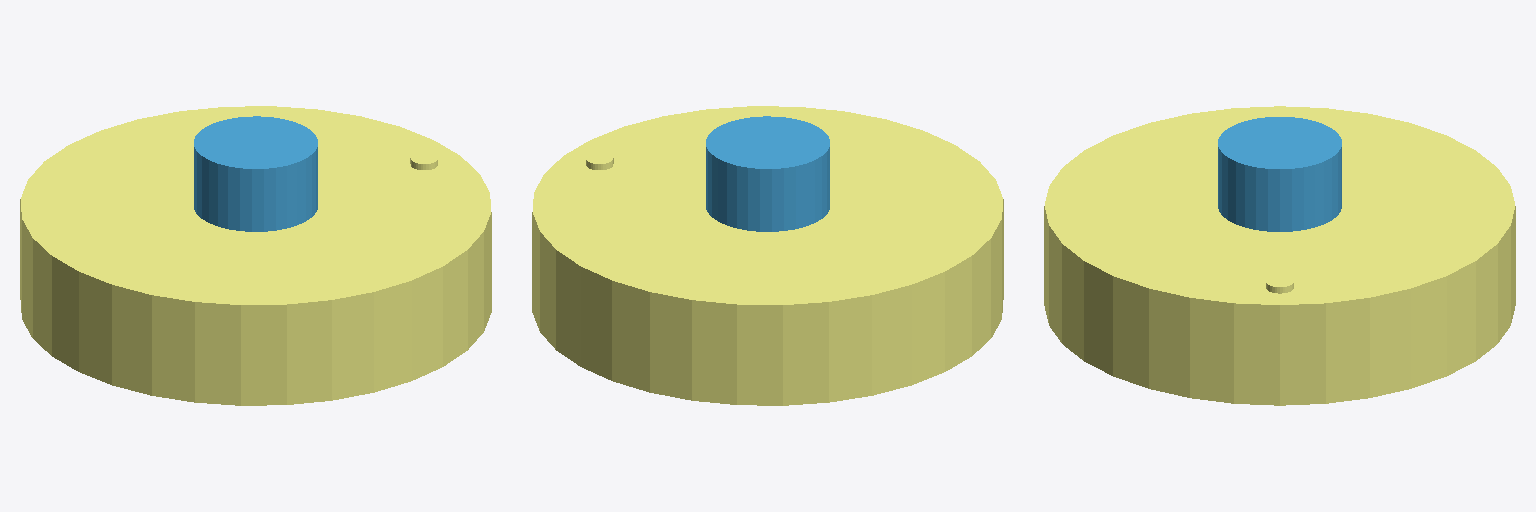
The robot description file, URDF, robot "iRobot":
<?xml version="1.0" ?>
<!-- =================================================================================== -->
<!-- |    This document was autogenerated by xacro from iRobot.urdf.xacro              | -->
<!-- |    EDITING THIS FILE BY HAND IS NOT RECOMMENDED                                 | -->
<!-- =================================================================================== -->
<robot name="iRobot" xmlns:xacro="http://www.ros.org/wiki/xacro">
  <!-- MODELS -->
  <material name="iRobot/Green">
    <color rgba="0.0 0.6 0.0 1.0"/>
  </material>
  <material name="iRobot/Yellow">
    <color rgba="1.0 1.0 0.0 1.0"/>
  </material>
  <material name="iRobot/Blue">
    <color rgba="0.0 0.5 1.0 1.0"/>
  </material>
  <material name="iRobot/LightYellow">
    <color rgba="1.0 1.0 0.6 1.0"/>
  </material>
  <material name="iRobot/Grey">
    <color rgba="0.75 0.75 0.75 1.0"/>
  </material>
  <material name="iRobot/Black">
    <color rgba="0.0 0.0 0.0 1.0"/>
  </material>
  <material name="iRobot/Red">
    <color rgba="0.8 0.0 0.0 1.0"/>
  </material>
  <link name="base_link">
    <inertial>
      <origin rpy="0 0 0" xyz="0 0 0"/>
      <mass value="0"/>
      <inertia ixx="0.0" ixy="0.0" ixz="0.0" iyy="0.0" iyz="0.0" izz="0.0"/>
    </inertial>
  </link>
  <joint name="base_joint" type="fixed">
    <origin rpy="0 0 0" xyz="0 0 0"/>
    <parent link="base_link"/>
    <child link="chassis"/>
  </joint>
  <link name="chassis">
    <inertial>
      <origin rpy="0 0 0" xyz="0 0 0"/>
      <mass value="10"/>
      <inertia ixx="0.425" ixy="0.0" ixz="0.0" iyy="0.425" iyz="0.0" izz="0.85"/>
    </inertial>
    <visual>
      <origin rpy="0 0 0" xyz="0 0 0"/>
      <geometry>
        <cylinder length="0.08" radius="0.17"/>
      </geometry>
      <material name="iRobot/LightYellow"/>
    </visual>
    <collision>
      <origin rpy="0 0 0" xyz="0 0 0"/>
      <geometry>
        <cylinder length="0.08" radius="0.17"/>
      </geometry>
    </collision>
  </link>
  <joint name="left_axis_base_joint" type="fixed">
    <origin rpy="0 0 0" xyz="0 0.14 -0.02"/>
    <parent link="chassis"/>
    <child link="left_axis"/>
  </joint>
  <link name="left_axis">
    <inertial>
      <origin rpy="-1.57079632679 0 0" xyz="0 0 0"/>
      <mass value="0.001"/>
      <inertia ixx="6.25e-07" ixy="0.0" ixz="0.0" iyy="6.25e-07" iyz="0.0" izz="2.08333333333e-07"/>
    </inertial>
    <visual>
      <origin rpy="-1.57079632679 0 0" xyz="0 0 0"/>
      <geometry>
        <cylinder length="0.02" radius="0.0025"/>
      </geometry>
      <material name="iRobot/Red"/>
    </visual>
    <collision>
      <origin rpy="-1.57079632679 0 0" xyz="0 0 0"/>
      <geometry>
        <cylinder length="0.02" radius="0.0025"/>
      </geometry>
    </collision>
  </link>
  <gazebo reference="left_axis_axis">
    <gravity>true</gravity>
    <material>Gazebo/Red</material>
    <mu1>0.8</mu1>
    <mu2>0.8</mu2>
  </gazebo>
  <joint name="left_wheel_rot_joint" type="continuous">
    <origin rpy="0 0 0" xyz="0 0 0"/>
    <axis xyz="0 1 0"/>
    <limit effort="100" velocity="100"/>
    <joint_properties damping="0.0" friction="0.0"/>
    <parent link="left_axis"/>
    <child link="left_wheel_link"/>
  </joint>
  <link name="left_wheel_link">
    <inertial>
      <origin rpy="-1.57079632679 0 0" xyz="0 0.01 0"/>
      <mass value="0.5"/>
      <inertia ixx="0.00375" ixy="0.0" ixz="0.0" iyy="0.00375" iyz="0.0" izz="0.00125"/>
    </inertial>
    <visual>
      <origin rpy="-1.57079632679 0 0" xyz="0 0 0"/>
      <geometry>
        <cylinder length="0.02" radius="0.03"/>
      </geometry>
      <material name="iRobot/Grey"/>
    </visual>
    <collision>
      <origin rpy="-1.57079632679 0 0" xyz="0 0 0"/>
      <geometry>
        <cylinder length="0.02" radius="0.03"/>
      </geometry>
    </collision>
  </link>
  <gazebo reference="left_wheel_link">
    <gravity>true</gravity>
    <material>Gazebo/Grey</material>
    <mu1>50</mu1>
    <mu2>10</mu2>
    <kp>10000000</kp>
    <kd>1</kd>
    <fdir1>1 0 0</fdir1>
    <minDepth>0.0001</minDepth>
    <maxContacts>1</maxContacts>
  </gazebo>
  <joint name="right_axis_base_joint" type="fixed">
    <origin rpy="0 0 0" xyz="0 -0.14 -0.02"/>
    <parent link="chassis"/>
    <child link="right_axis"/>
  </joint>
  <link name="right_axis">
    <inertial>
      <origin rpy="-1.57079632679 0 0" xyz="0 0 0"/>
      <mass value="0.001"/>
      <inertia ixx="6.25e-07" ixy="0.0" ixz="0.0" iyy="6.25e-07" iyz="0.0" izz="2.08333333333e-07"/>
    </inertial>
    <visual>
      <origin rpy="-1.57079632679 0 0" xyz="0 0 0"/>
      <geometry>
        <cylinder length="0.02" radius="0.0025"/>
      </geometry>
      <material name="iRobot/Red"/>
    </visual>
    <collision>
      <origin rpy="-1.57079632679 0 0" xyz="0 0 0"/>
      <geometry>
        <cylinder length="0.02" radius="0.0025"/>
      </geometry>
    </collision>
  </link>
  <gazebo reference="right_axis_axis">
    <gravity>true</gravity>
    <material>Gazebo/Red</material>
    <mu1>0.8</mu1>
    <mu2>0.8</mu2>
  </gazebo>
  <joint name="right_wheel_rot_joint" type="continuous">
    <origin rpy="0 0 0" xyz="0 0 0"/>
    <axis xyz="0 1 0"/>
    <limit effort="100" velocity="100"/>
    <joint_properties damping="0.0" friction="0.0"/>
    <parent link="right_axis"/>
    <child link="right_wheel_link"/>
  </joint>
  <link name="right_wheel_link">
    <inertial>
      <origin rpy="-1.57079632679 0 0" xyz="0 0.01 0"/>
      <mass value="0.5"/>
      <inertia ixx="0.00375" ixy="0.0" ixz="0.0" iyy="0.00375" iyz="0.0" izz="0.00125"/>
    </inertial>
    <visual>
      <origin rpy="-1.57079632679 0 0" xyz="0 0 0"/>
      <geometry>
        <cylinder length="0.02" radius="0.03"/>
      </geometry>
      <material name="iRobot/Grey"/>
    </visual>
    <collision>
      <origin rpy="-1.57079632679 0 0" xyz="0 0 0"/>
      <geometry>
        <cylinder length="0.02" radius="0.03"/>
      </geometry>
    </collision>
  </link>
  <gazebo reference="right_wheel_link">
    <gravity>true</gravity>
    <material>Gazebo/Grey</material>
    <mu1>50</mu1>
    <mu2>10</mu2>
    <kp>10000000</kp>
    <kd>1</kd>
    <fdir1>1 0 0</fdir1>
    <minDepth>0.0001</minDepth>
    <maxContacts>1</maxContacts>
  </gazebo>
  <joint name="sphere_joint1" type="revolute">
    <origin rpy="0 0 0" xyz="0.14 0 -0.04"/>
    <axis xyz="0 0 1"/>
    <limit effort="100" lower="0" upper="0" velocity="100"/>
    <parent link="chassis"/>
    <child link="sphere1"/>
  </joint>
  <link name="sphere1">
    <inertial>
      <origin rpy="0 0 0" xyz="0 0 0"/>
      <mass value="0.3"/>
      <inertia ixx="0.0012" ixy="0.0" ixz="0.0" iyy="0.0012" iyz="0.0" izz="0.0012"/>
    </inertial>
    <visual>
      <origin rpy="0 0 0" xyz="0 0 0"/>
      <geometry>
        <sphere radius="0.01"/>
      </geometry>
      <material name="iRobot/Grey"/>
    </visual>
    <collision>
      <origin rpy="0 0 0" xyz="0 0 0"/>
      <geometry>
        <sphere radius="0.01"/>
      </geometry>
    </collision>
  </link>
  <joint name="sphere_joint2" type="revolute">
    <origin rpy="0 0 0" xyz="-0.14 0 -0.04"/>
    <axis xyz="0 0 1"/>
    <limit effort="100" lower="0" upper="0" velocity="100"/>
    <parent link="chassis"/>
    <child link="sphere2"/>
  </joint>
  <link name="sphere2">
    <inertial>
      <origin rpy="0 0 0" xyz="0 0 0"/>
      <mass value="0.3"/>
      <inertia ixx="0.0012" ixy="0.0" ixz="0.0" iyy="0.0012" iyz="0.0" izz="0.0012"/>
    </inertial>
    <visual>
      <origin rpy="0 0 0" xyz="0 0 0"/>
      <geometry>
        <sphere radius="0.01"/>
      </geometry>
      <material name="iRobot/Grey"/>
    </visual>
    <collision>
      <origin rpy="0 0 0" xyz="0 0 0"/>
      <geometry>
        <sphere radius="0.01"/>
      </geometry>
    </collision>
  </link>
  <!--    <joint name="sphere_to_ground" type="fixed">
        <origin xyz="0 0 -0.03" rpy="0 0 0"/>
        <parent link="sphere"/>
        <child link="ground"/>
    </joint>
    <link name="ground">
        <inertial>
            <origin xyz="0 0 0" rpy="0 0 0"/>
            <mass value="0"/>
            <inertia ixx="0.0" ixy="0.0" ixz="0.0" iyy="0.0" iyz="0.0" izz="0.0"/>
        </inertial>
    </link>-->
  <joint name="base_front_joint" type="fixed">
    <origin rpy="0 0 0" xyz="0.14 0 0.04"/>
    <parent link="chassis"/>
    <child link="front_marker"/>
  </joint>
  <link name="front_marker">
    <inertial>
      <origin rpy="0 0 0" xyz="0 0 0"/>
      <mass value="0.001"/>
      <inertia ixx="0.00001" ixy="0.0" ixz="0.0" iyy="0.00001" iyz="0.0" izz="0.00001"/>
    </inertial>
    <visual>
      <origin rpy="0 0 0" xyz="0 0 0"/>
      <geometry>
        <cylinder length="0.01" radius="0.01"/>
      </geometry>
      <material name="iRobot/LightYellow"/>
    </visual>
    <collision>
      <origin rpy="0 0 0" xyz="0 0 0"/>
      <geometry>
        <cylinder length="0.01" radius="0.01"/>
      </geometry>
    </collision>
  </link>
  <!-- Laser position: x y 0.025(laser height)+parent_height -->
  <joint name="hokuyo_laser_joint" type="fixed">
    <axis xyz="0 0 1"/>
    <origin rpy="0 0 0" xyz="0 0 0.065"/>
    <parent link="chassis"/>
    <child link="laser_link"/>
  </joint>
  <link name="laser_link">
    <collision>
      <origin rpy="0 0 0" xyz="0 0 0"/>
      <geometry>
        <cylinder length="0.05" radius="0.045"/>
      </geometry>
    </collision>
    <visual>
      <origin rpy="0 0 0" xyz="0 0 0"/>
      <geometry>
        <cylinder length="0.05" radius="0.045"/>
      </geometry>
    </visual>
    <inertial>
      <mass value="1e-5"/>
      <origin rpy="0 0 0" xyz="0 0 0"/>
      <inertia ixx="1e-6" ixy="0" ixz="0" iyy="1e-6" iyz="0" izz="1e-6"/>
    </inertial>
  </link>
  <gazebo reference="laser_link">
    <gravity>true</gravity>
    <sensor name="head_sensor" type="ray">
      <pose>0 0 0 0 0 0</pose>
      <visualize>true</visualize>
      <update_rate>40</update_rate>
      <ray>
        <scan>
          <horizontal>
            <samples>720</samples>
            <resolution>1</resolution>
            <min_angle>-3.14159</min_angle>
            <max_angle>3.14159</max_angle>
          </horizontal>
        </scan>
        <range>
          <min>0.08</min>
          <max>5</max>
          <resolution>0.01</resolution>
        </range>
        <noise>
          <type>gaussian</type>
          <!-- Noise parameters based on published spec for Hokuyo laser
                        achieving "+-30mm" accuracy at range < 10m.  A mean of 0.0m and
                        stddev of 0.01m will put 99.7% of samples within 0.03m of the true
                        reading. -->
          <mean>0.0</mean>
          <stddev>0.001</stddev>
        </noise>
      </ray>
      <plugin filename="libgazebo_ros_laser.so" name="gazebo_ros_head_hokuyo_controller">
        <robotNamespace/>
        <topicName>laser_scan</topicName>
        <frameName>laser_link</frameName>
      </plugin>
    </sensor>
  </gazebo>
  <!--    <xacro:model_shelf name="first_shelf" 
                       parent="chassis"
                       height="0.15">
    </xacro:model_shelf>
    
    <xacro:model_shelf name="second_shelf" 
                       parent="first_shelf"
                       height="0.25">
    </xacro:model_shelf>-->
  <gazebo reference="base_link">
    </gazebo>
  <gazebo reference="ground">
    </gazebo>
  <gazebo reference="sphere1">
    <gravity>true</gravity>
    <material>Gazebo/Grey</material>
    <mu1>0</mu1>
    <mu2>0</mu2>
    <kp>10000000</kp>
    <kd>1</kd>
    <fdir1>1 0 0</fdir1>
    <minDepth>0.0001</minDepth>
    <maxContacts>1</maxContacts>
  </gazebo>
  <gazebo reference="sphere2">
    <gravity>true</gravity>
    <material>Gazebo/Grey</material>
    <mu1>0</mu1>
    <mu2>0</mu2>
    <kp>10000000</kp>
    <kd>1</kd>
    <fdir1>1 0 0</fdir1>
    <minDepth>0.0001</minDepth>
    <maxContacts>1</maxContacts>
  </gazebo>
  <gazebo reference="chassis">
    <gravity>true</gravity>
    <material>Gazebo/Yellow</material>
  </gazebo>
  <gazebo>
    <static>false</static>
    <plugin filename="libgazebo_ros_diff_drive.so" name="differential_drive_controller">
      <rosDebugLevel>Debug</rosDebugLevel>
      <publishWheelTF>false</publishWheelTF>
      <publishWheelJointState>true</publishWheelJointState>
      <alwaysOn>true</alwaysOn>
      <leftJoint>left_wheel_rot_joint</leftJoint>
      <rightJoint>right_wheel_rot_joint</rightJoint>
      <wheelSeparation>0.28</wheelSeparation>
      <wheelDiameter>0.06</wheelDiameter>
      <torque>20</torque>
      <wheelAcceleration>1.8</wheelAcceleration>
      <commandTopic>cmd_vel</commandTopic>
      <odometryTopic>odom</odometryTopic>
      <odometryFrame>odom</odometryFrame>
      <odometrySource>encoder</odometrySource>
      <robotBaseFrame>base_link</robotBaseFrame>
      <updateRate>10.0</updateRate>
    </plugin>
    <plugin filename="libgazebo_ros_joint_state_publisher.so" name="joint_state_publisher">
      <jointName>left_wheel_rot_joint, right_wheel_rot_joint</jointName>
      <updateRate>10.0</updateRate>
      <alwaysOn>true</alwaysOn>
    </plugin>
    <plugin filename="libgazebo_ros_imu.so" name="imu_plugin">
      <bodyName>base_link</bodyName>
      <updateRate>100.0</updateRate>
      <topicName>imu_data</topicName>
      <serviceName>imu_service</serviceName>
      <gaussianNoise>0.1</gaussianNoise>
      <xyzOffset>0 0 0</xyzOffset>
      <rpyOffset>0 0 0</rpyOffset>
    </plugin>
  </gazebo>
</robot>

--- What the picture shows (computed from the rendered views, not written in the file) ---
The picture shows the robot from 3 angles, left to right: view 1: azimuth 30°, elevation 25°; view 2: azimuth 150°, elevation 25°; view 3: azimuth 270°, elevation 25°; orthographic projection.
Model iRobot with 10 links and 9 joints (2 revolute, 2 continuous, 5 fixed), rooted at base_link, posed all joints at 0.
Links seen in each view (by area): view 1: chassis, laser_link; view 2: chassis, laser_link; view 3: chassis, laser_link.
Boxes of the visible links, box(x1,y1,x2,y2) form: chassis: box(20, 106, 491, 405); laser_link: box(194, 116, 317, 231); chassis: box(532, 106, 1003, 405); laser_link: box(706, 116, 829, 231); chassis: box(1044, 106, 1515, 405); laser_link: box(1218, 117, 1341, 231).
Bounding box of the posed robot: 0.34 × 0.34 × 0.14 m (x, y, z).
Geometry: primitives only (box / cylinder / sphere), no mesh files.
